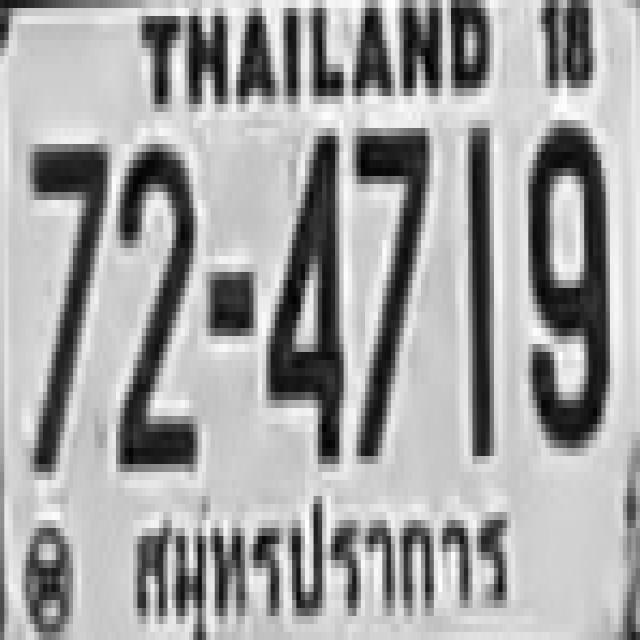1: (464, 120, 490, 456)
2: (116, 136, 193, 464)
4: (262, 120, 339, 456)
7: (26, 136, 103, 464), (352, 120, 425, 456)
9: (524, 112, 606, 440)
SPK: (125, 489, 514, 636)
